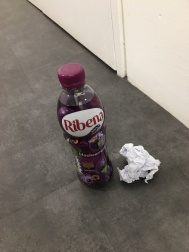bottle_purple: (46, 61, 117, 200)
paper_white: (113, 137, 165, 197)
